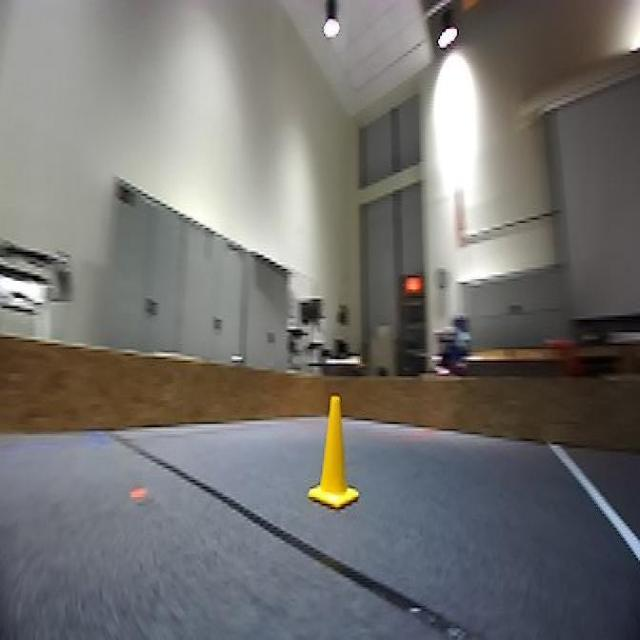frc_cone: (309, 393, 360, 512)
